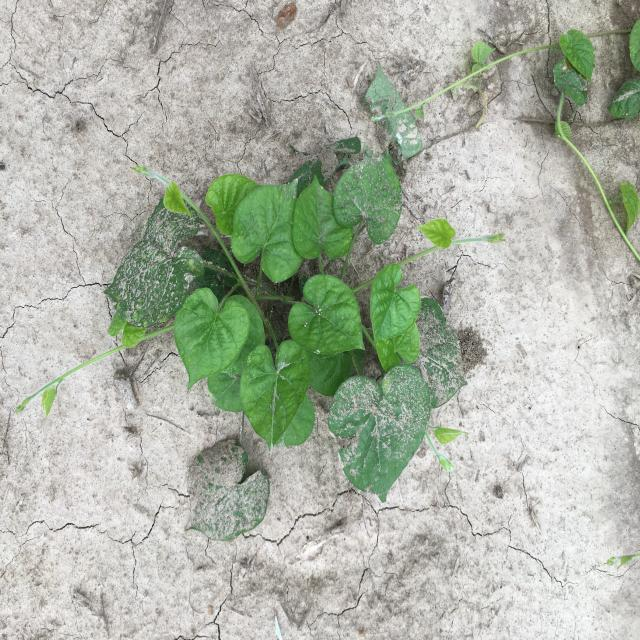MorningGlory: (13, 59, 506, 541), (372, 19, 640, 259)
